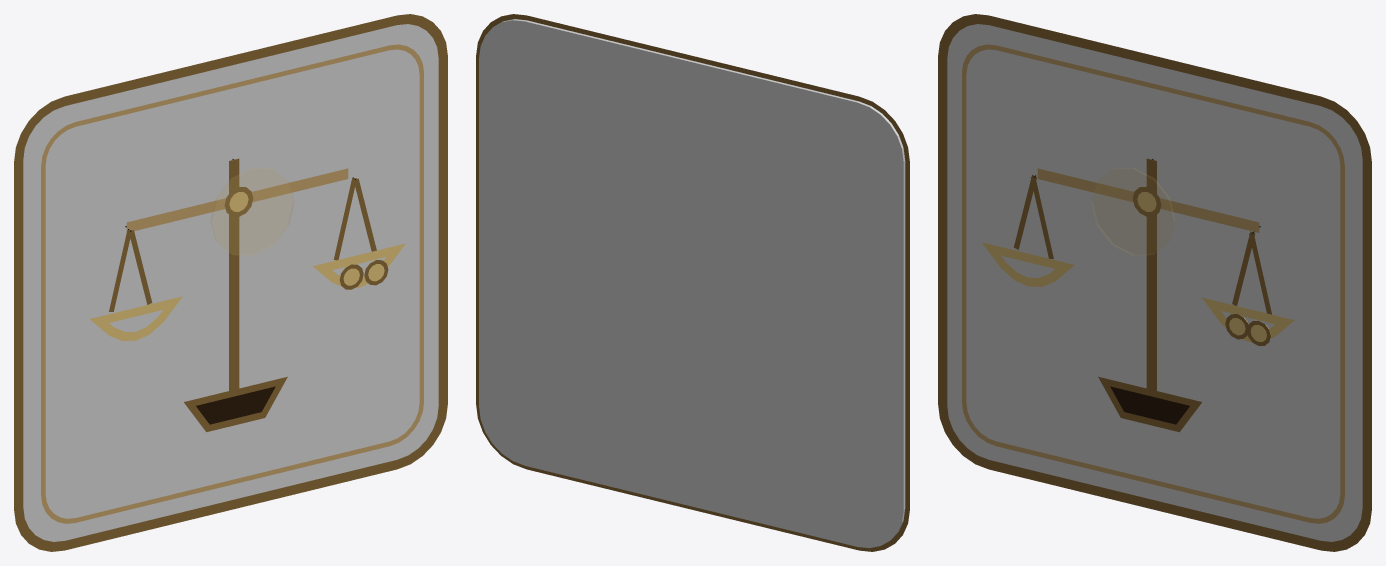
The model's file is obj-vesy.glb.
3 renders of one model, left to right at view 1: azimuth 30°, elevation 25°; view 2: azimuth 150°, elevation 25°; view 3: azimuth 330°, elevation 25°, orthographic.
Parts seen in each view (by area): view 1: obj-vesy; view 2: obj-vesy; view 3: obj-vesy.
Part boxes in pixels (x1,y1,x2,y2): obj-vesy: (14,14,447,551); obj-vesy: (476,14,909,551); obj-vesy: (938,14,1371,551).
Bounding box in the file's own units: 0.3917 × 0.3917 × 0.0375.
